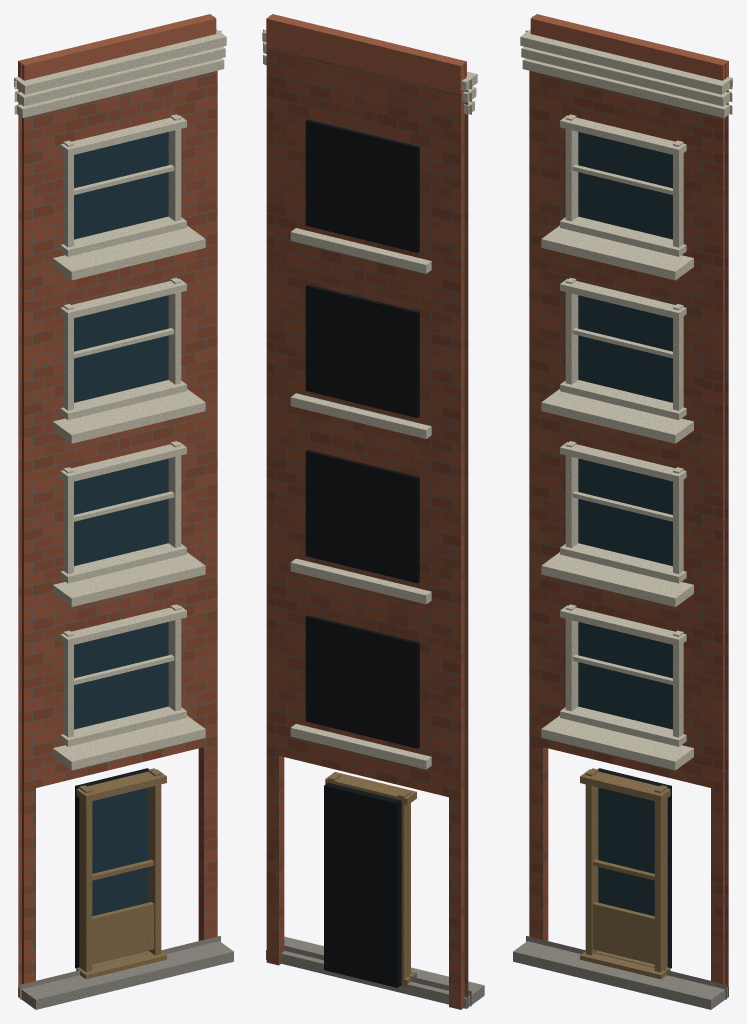
Rendered from OFFC22_lod2.glb.
3 renders of one model, left to right at view 1: azimuth 30°, elevation 25°; view 2: azimuth 150°, elevation 25°; view 3: azimuth 330°, elevation 25°, orthographic.
Visible parts, largest first — view 1: OFFC22_FRONT_LOD2; view 2: OFFC22_FRONT_LOD2; view 3: OFFC22_FRONT_LOD2.
Boxes of the visible parts, x1=… form: OFFC22_FRONT_LOD2: x1=14, y1=14, x2=233, y2=1009; OFFC22_FRONT_LOD2: x1=262, y1=14, x2=484, y2=1009; OFFC22_FRONT_LOD2: x1=513, y1=14, x2=732, y2=1009.
Bounding box in the file's own units: 3.44 × 14.86 × 0.85.
Materials: 8 (6 with a texture image).
